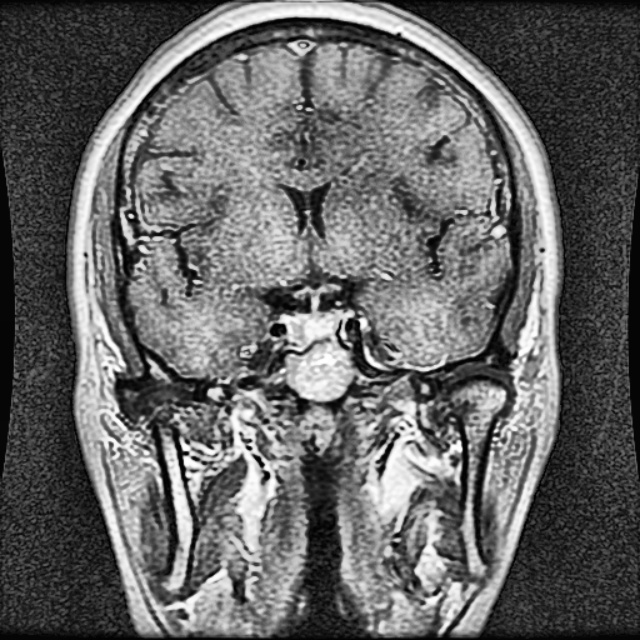Pituitary: (284, 308, 339, 349)
